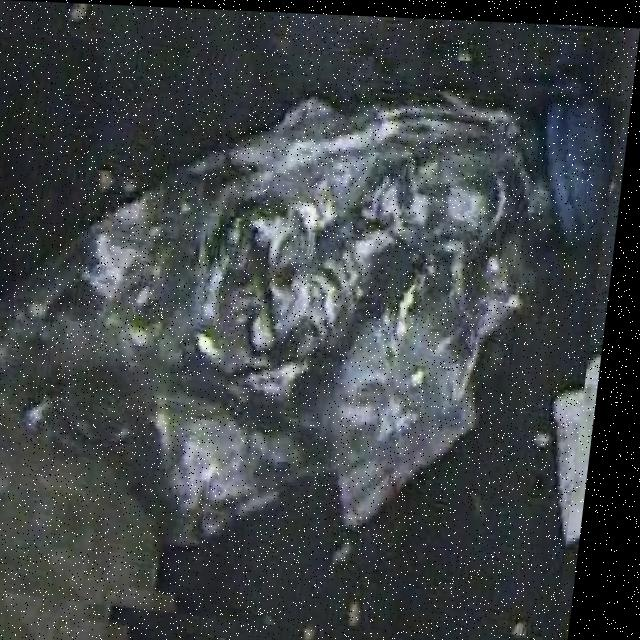plasticbottle: (0, 40, 623, 640)
